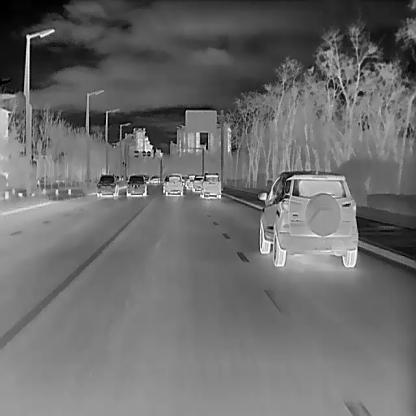car: (258, 169, 358, 267), (199, 172, 220, 198), (125, 174, 147, 196), (96, 174, 118, 196), (164, 173, 184, 195), (191, 174, 204, 191), (186, 173, 195, 188), (149, 174, 159, 183), (143, 174, 149, 183)
